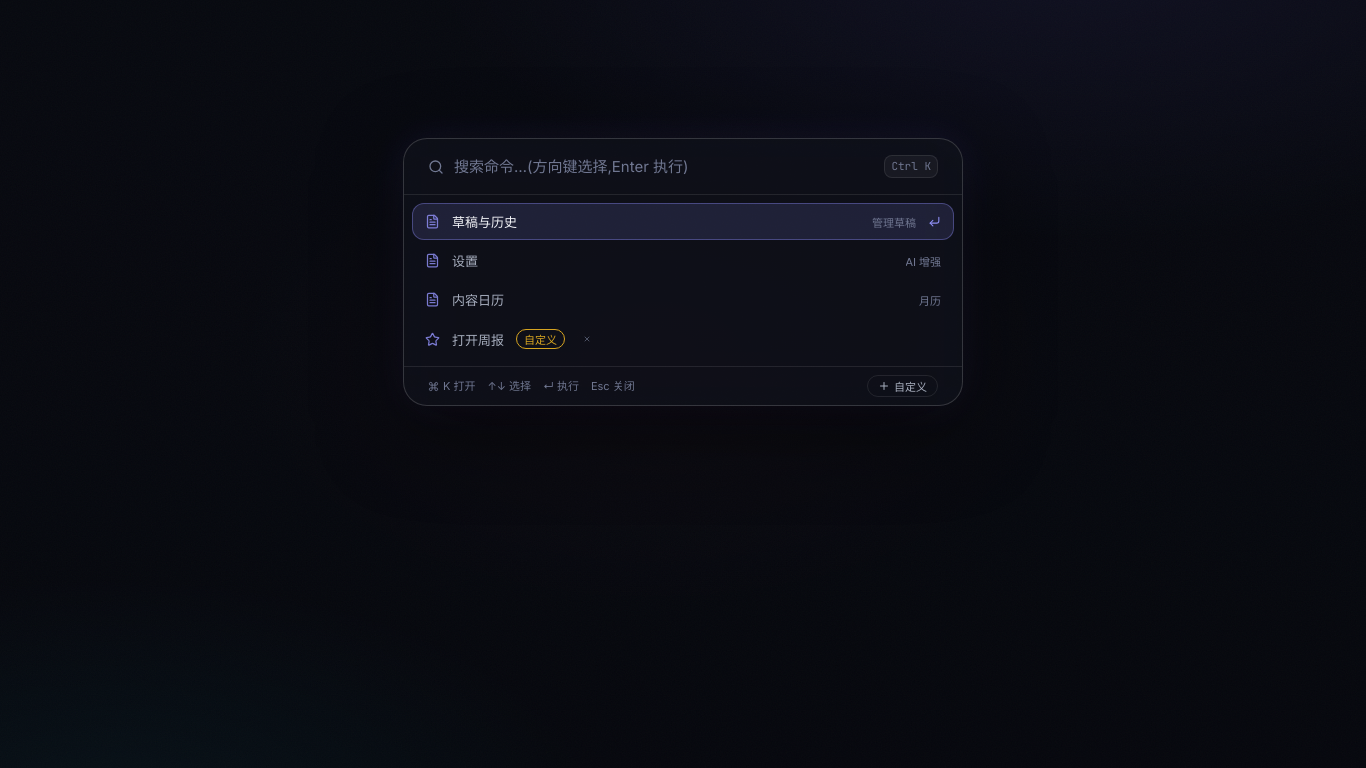
Test: CommandPalette · CMD-02 › 删除自定义命令
The image size is (1366, 768).
Click the button named "删除命令 打开周报" at x=587, y=339, box left=577, top=329, right=597, bottom=349
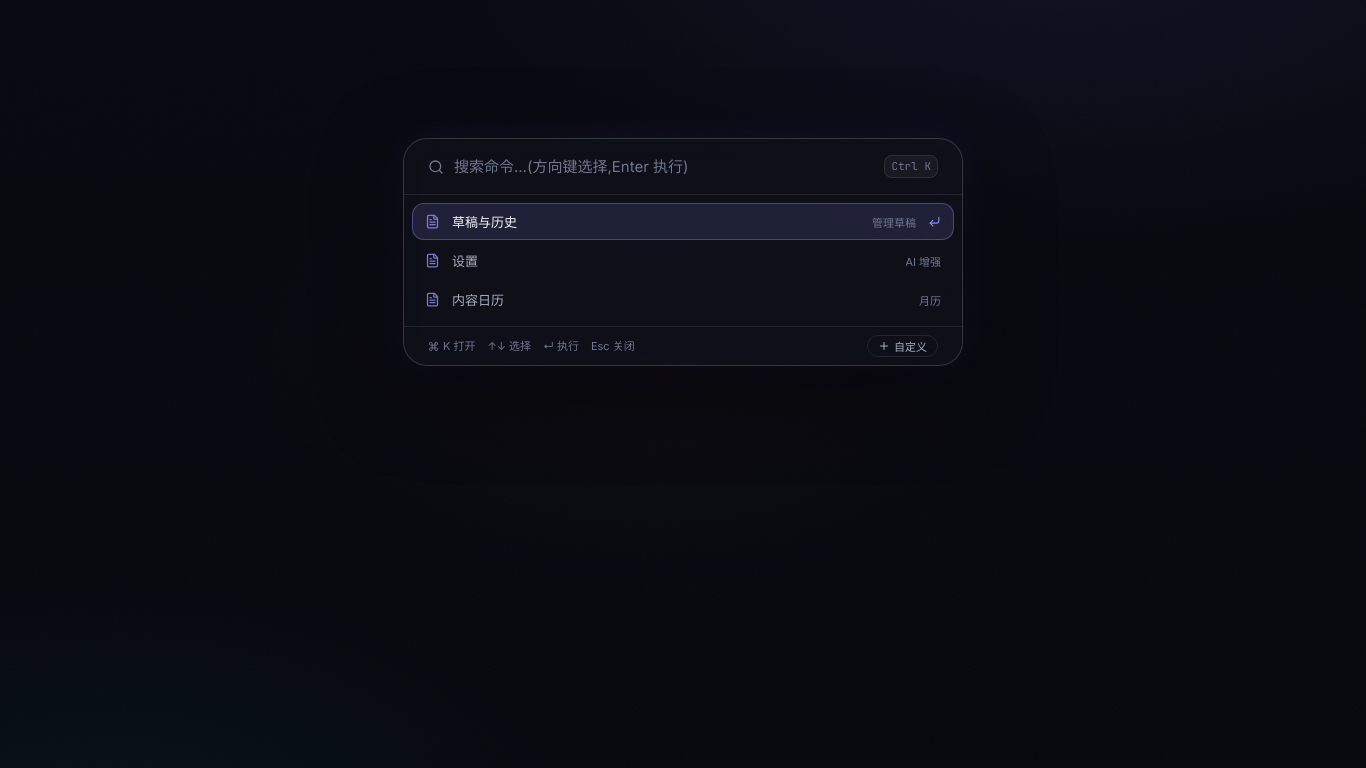
Check: the option "打开周报" is gone
